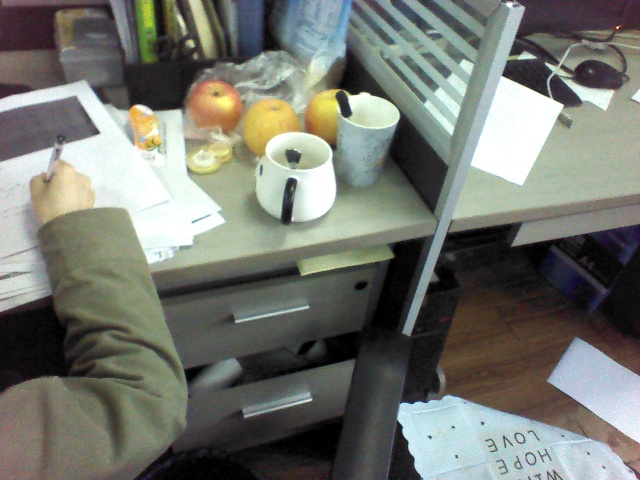ball: (147, 35, 275, 160)
